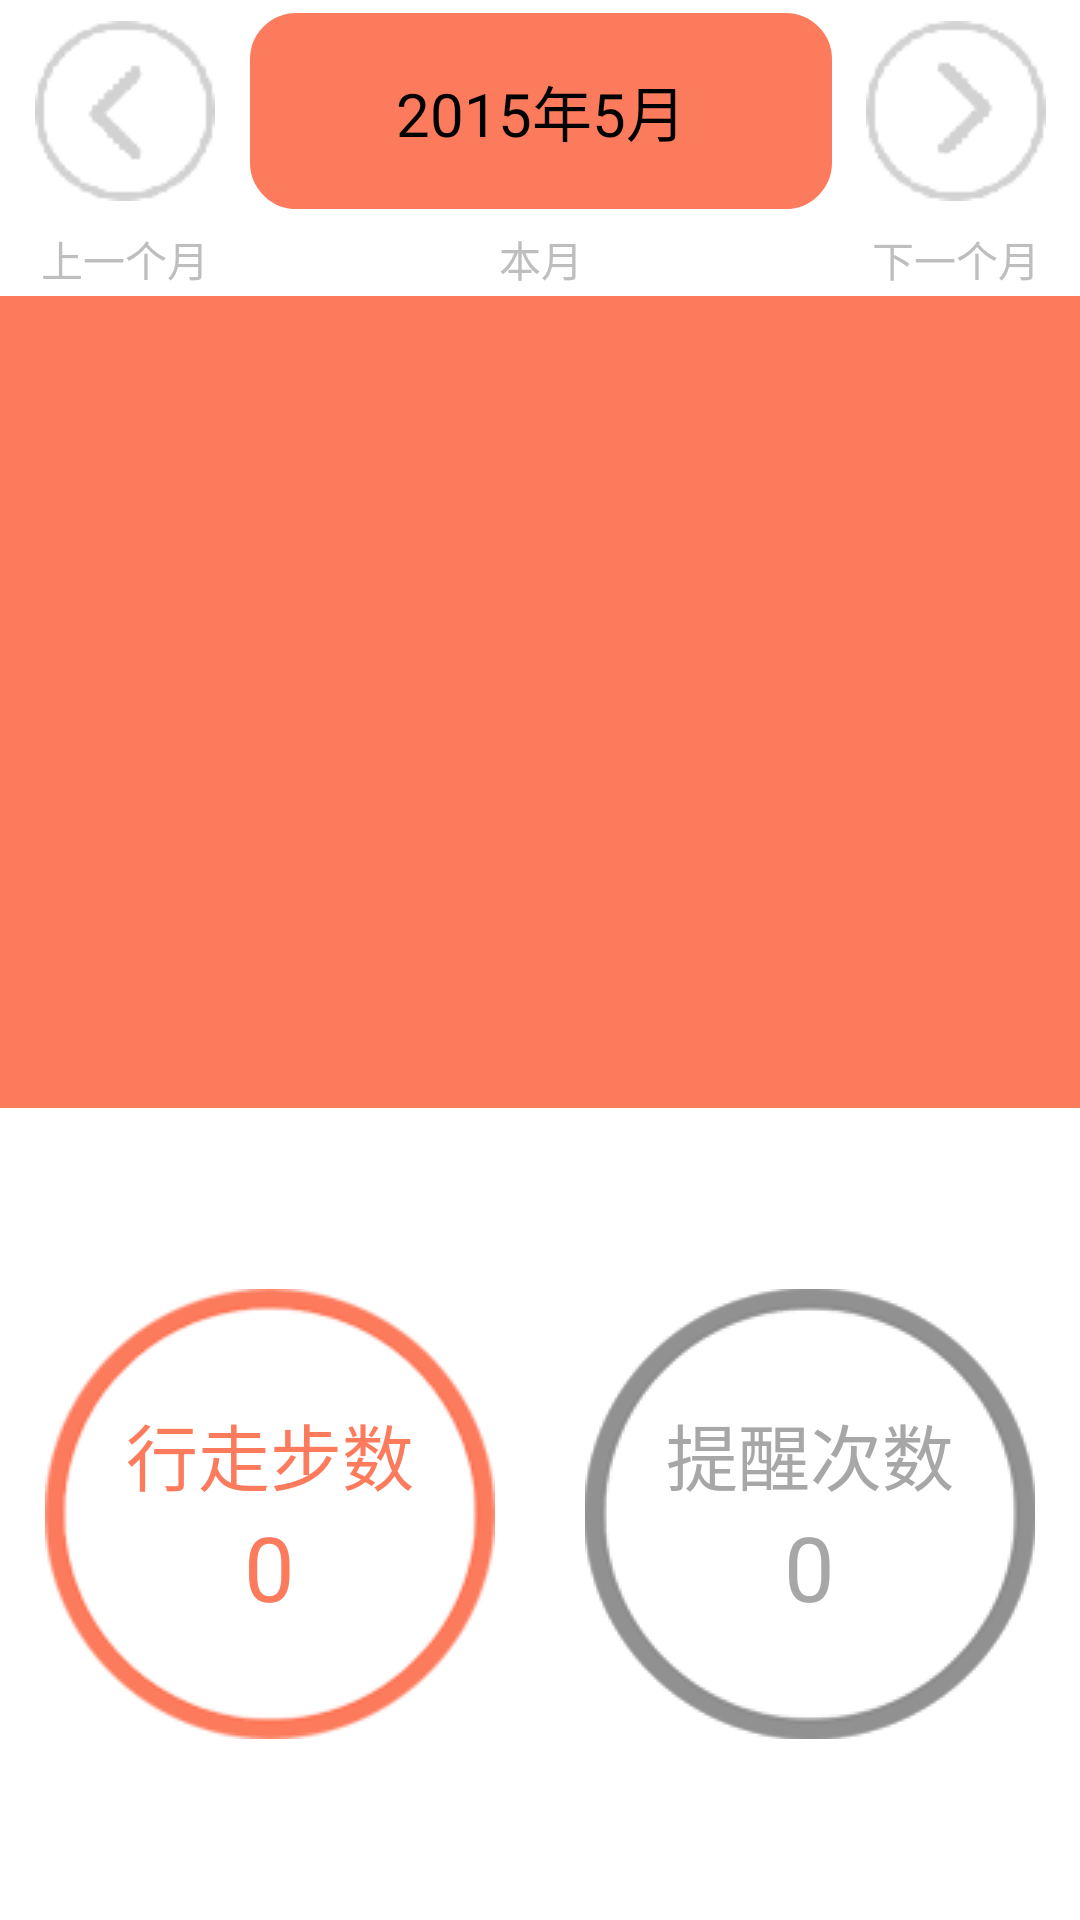

Icons on this 1080w x 1920h Android screen, each with the point to tap as (x=x, y=y):
back: (x=125, y=111)
